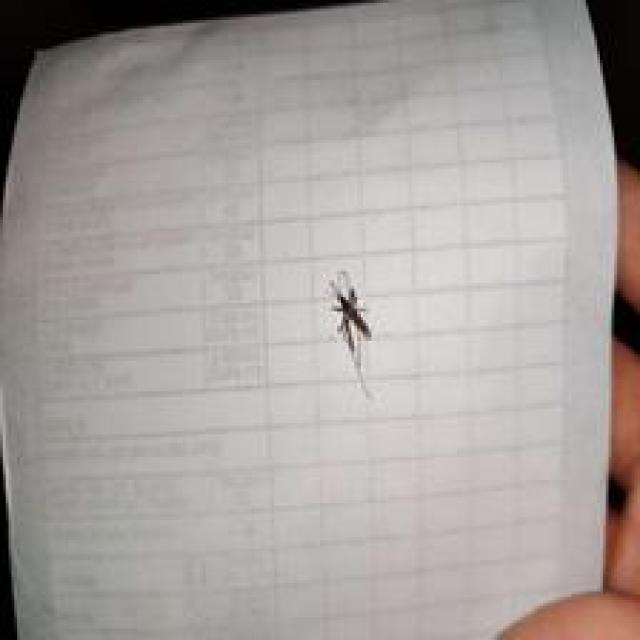Culex: (327, 269, 376, 400)
